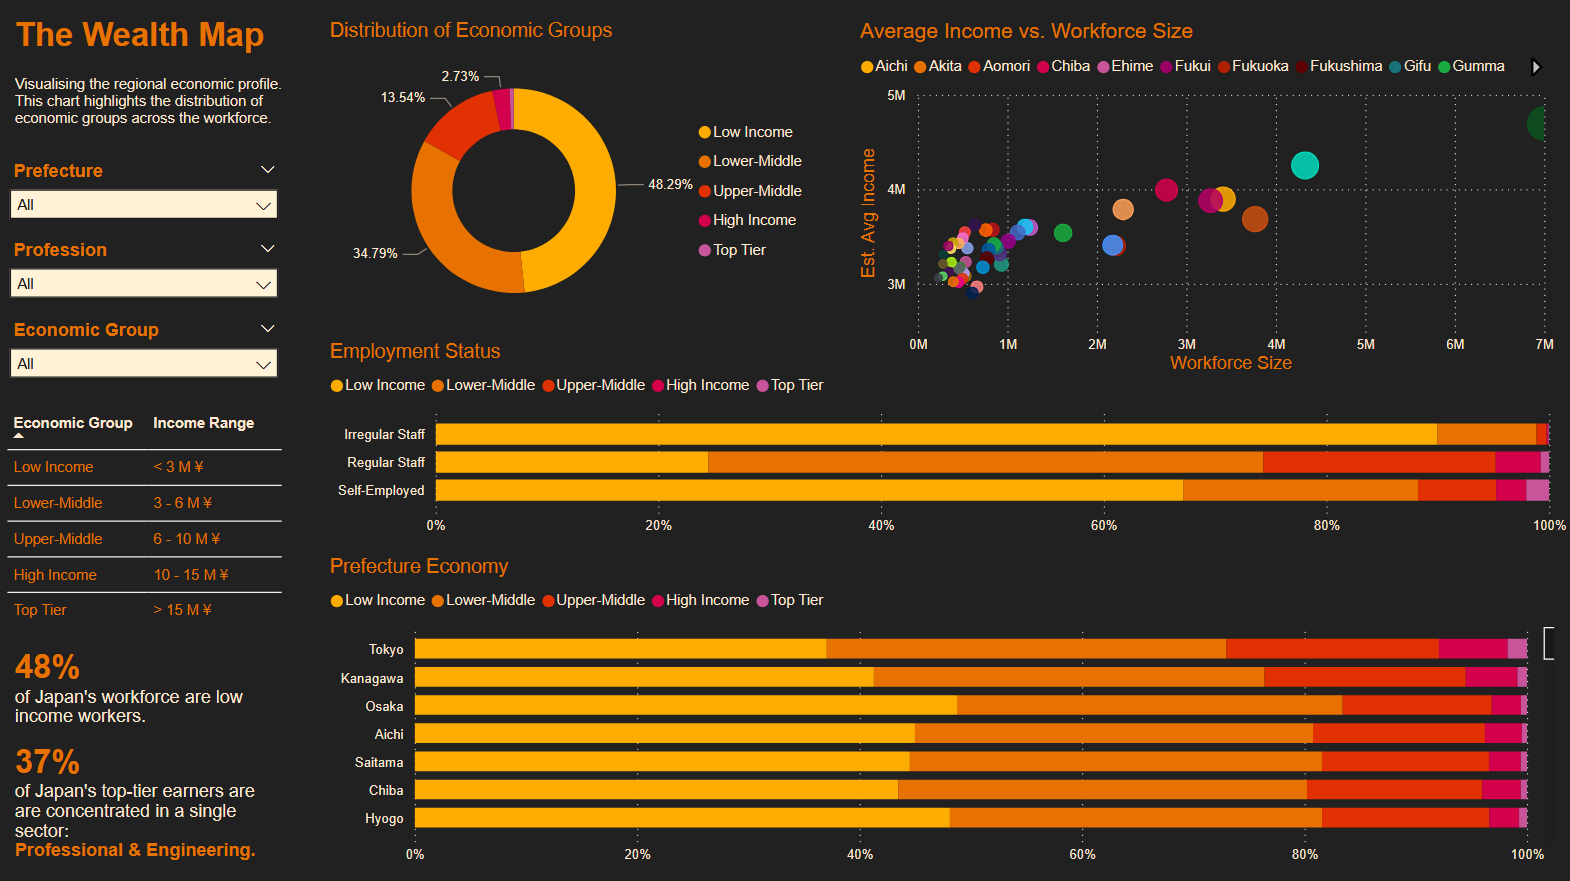

Layout of this report page (visuals, bound fields, positions):
{"tool":"powerbi","page":{"name":"The Wealth Map","canvas":[1280,720],"ordinal":1},"visuals":[{"type":"hundredPercentStackedBarChart","title":"Prefecture Economy","fields":{"Category":["japan_comprehensive_data.Prefecture"],"Y":["Sum(japan_comprehensive_data.Value)"],"Series":["Income Group Table.Economic Group"]},"box":[264.6,453.5,1005.1,257.6],"z":0},{"type":"hundredPercentStackedBarChart","title":"Employment Status","fields":{"Category":["japan_comprehensive_data.Employment Status"],"Y":["Sum(japan_comprehensive_data.Value)"],"Series":["Income Group Table.Economic Group"]},"box":[264.6,278.8,1015.2,165.7],"z":1000},{"type":"tableEx","title":"Economic Group Key","fields":{"Values":["Income Group Table.Economic Group","Income Group Table.Income Range"]},"box":[0,327.3,238.4,197],"z":2000},{"type":"textbox","box":[9,10,213,48],"z":3000},{"type":"textbox","box":[9.1,57.6,237.4,70.7],"z":4000},{"type":"slicer","fields":{"Values":["Income Group Table.Economic Group"]},"box":[0,256.6,238.4,62.6],"z":5000},{"type":"slicer","fields":{"Values":["japan_comprehensive_data.Prefecture"]},"box":[0,128.3,238.4,63.6],"z":6000},{"type":"slicer","fields":{"Values":["japan_comprehensive_data.Profession"]},"box":[0,191.9,238.4,64.6],"z":7000},{"type":"donutChart","title":"Distribution of Economic Groups","fields":{"Category":["Income Group Table.Economic Group"],"Y":["Sum(japan_comprehensive_data.Value)"]},"box":[264.6,18.2,403,260.6],"z":8000},{"type":"scatterChart","title":"Average Income vs. Workforce Size","fields":{"Category":["japan_comprehensive_data.Prefecture"],"X":["Sum(japan_comprehensive_data.Value)"],"Y":["japan_comprehensive_data.Est. Avg Income"],"Series":["japan_comprehensive_data.Prefecture"],"Size":["Sum(japan_comprehensive_data.Value)"]},"box":[696,18.2,573.7,291.9],"z":9000},{"type":"textbox","box":[9.1,524.2,229.3,196],"z":10000}]}

Visuals, with their boxes in screenshot pixels (x1, y1, x2, y2), scaled from the page's 1280x720 canvas onto the 1570x881 screenshot:
"Prefecture Economy" hundredPercentStackedBarChart: locate(325, 555, 1557, 870)
"Employment Status" hundredPercentStackedBarChart: locate(325, 341, 1569, 544)
"Economic Group Key" tableEx: locate(0, 400, 292, 642)
textbox: locate(11, 12, 272, 71)
textbox: locate(11, 70, 302, 157)
slicer - Income Group Table.Economic Group: locate(0, 314, 292, 391)
slicer - japan_comprehensive_data.Prefecture: locate(0, 157, 292, 235)
slicer - japan_comprehensive_data.Profession: locate(0, 235, 292, 314)
"Distribution of Economic Groups" donutChart: locate(325, 22, 819, 341)
"Average Income vs. Workforce Size" scatterChart: locate(854, 22, 1557, 379)
textbox: locate(11, 641, 292, 880)
